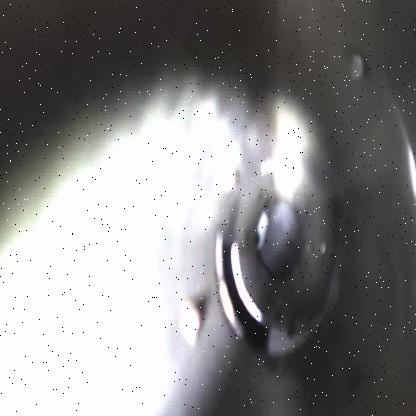Crack2: (213, 230, 270, 354)
